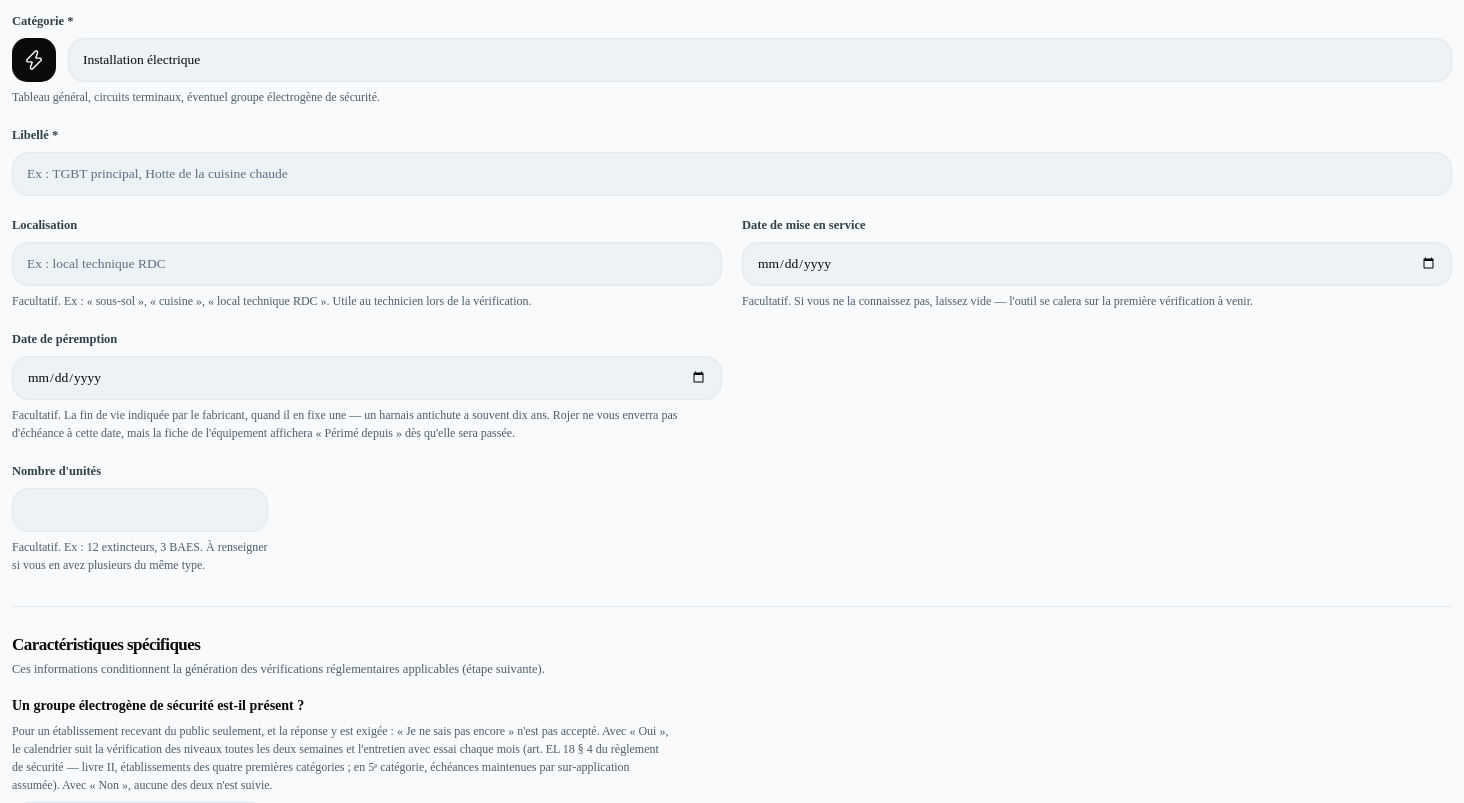
Test: EquipementForm : la recherche de matériel (2026-10-14) › un combobox accessible : rôle, liste contrôlée, état ouvert dit
The width and height of the screenshot is (1464, 803).
Replace the text in the dropdown labelled "Catégorie *" with "chambre froide" at [760, 60], box [68,38,1452,82]
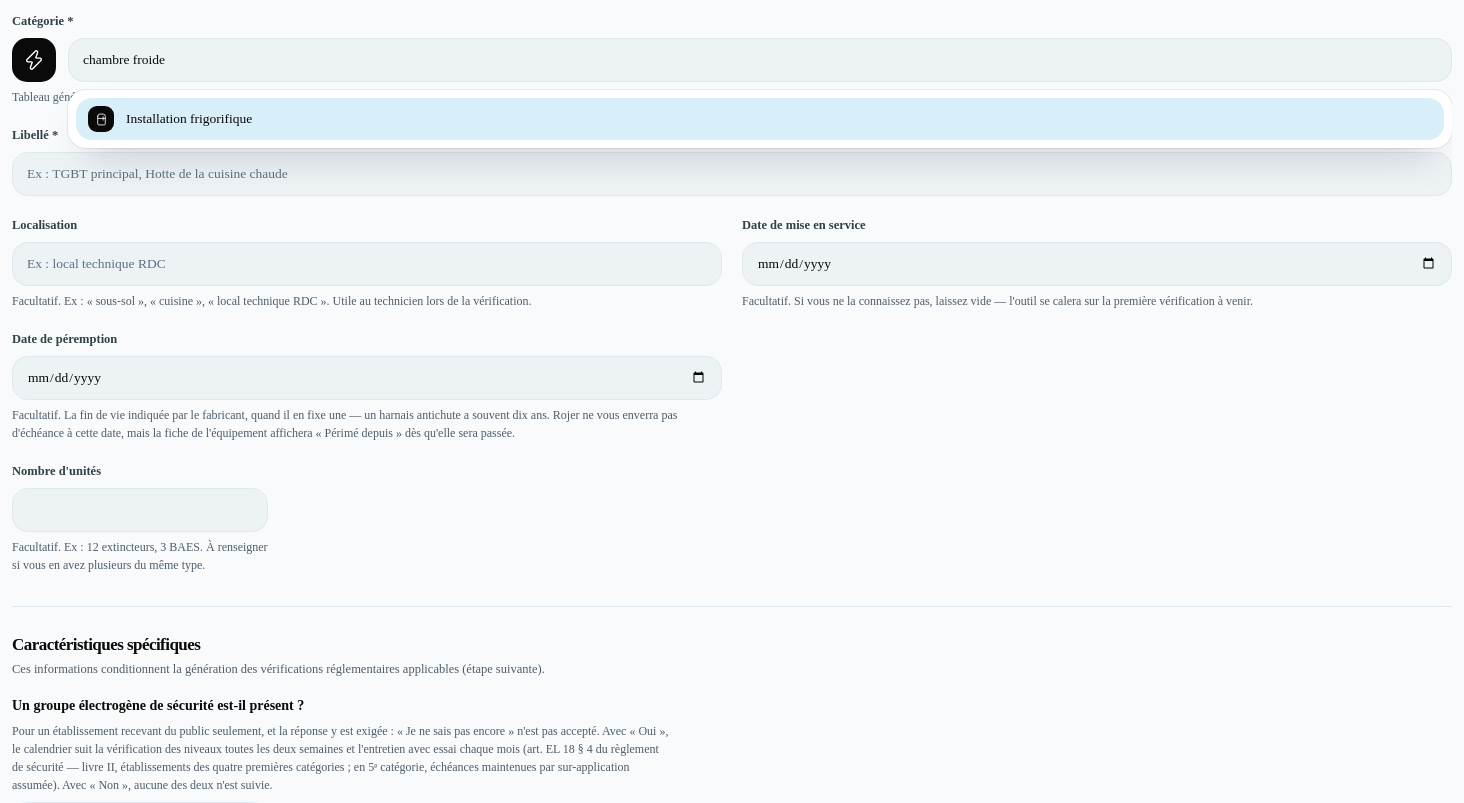
Now the dropdown labelled "Catégorie *" is expanded, box [68,38,1452,82]
